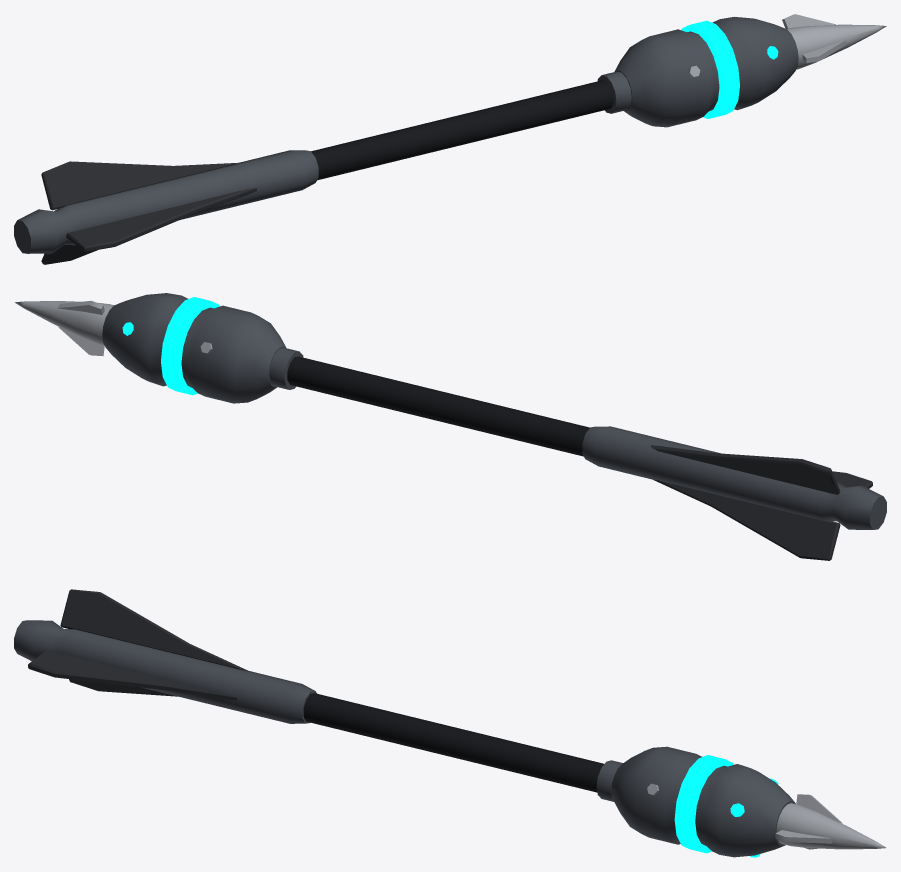
File: ReconDart.fbx
3 views of the same model, one above another, from view 1: azimuth 30°, elevation 25°; view 2: azimuth 150°, elevation 25°; view 3: azimuth 330°, elevation 25° (orthographic).
Parts seen in each view (by area): view 1: Body_Gunmetal, Body_Dark, Fins, Tip, Light_Energy; view 2: Body_Gunmetal, Body_Dark, Fins, Tip, Light_Energy; view 3: Body_Gunmetal, Body_Dark, Fins, Tip, Light_Energy.
Part boxes in pixels (x1,y1,x2,y2): Body_Gunmetal: (14,16,798,253); Body_Dark: (311,80,613,180); Fins: (41,161,256,264); Tip: (782,14,886,69); Light_Energy: (681,20,778,118); Body_Gunmetal: (102,293,886,529); Body_Dark: (287,356,589,456); Fins: (650,445,872,560); Tip: (14,300,113,356); Light_Energy: (122,297,219,395); Body_Gunmetal: (14,620,795,857); Body_Dark: (303,693,603,792); Fins: (28,589,249,700); Tip: (775,794,886,849); Light_Energy: (674,755,778,857).
Bounding box in the file's own units: 0.9 × 0.0985 × 0.0995.
